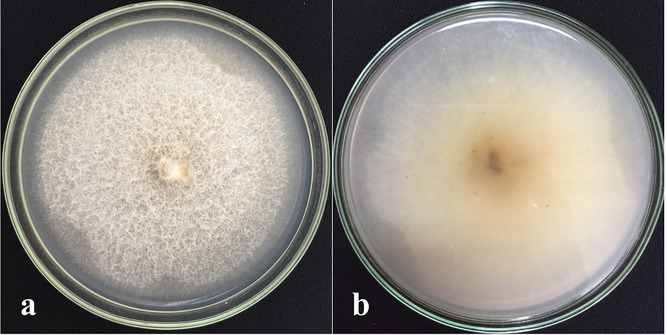Fusarium: (62, 81, 253, 229), (390, 89, 569, 226), (93, 231, 214, 274)
